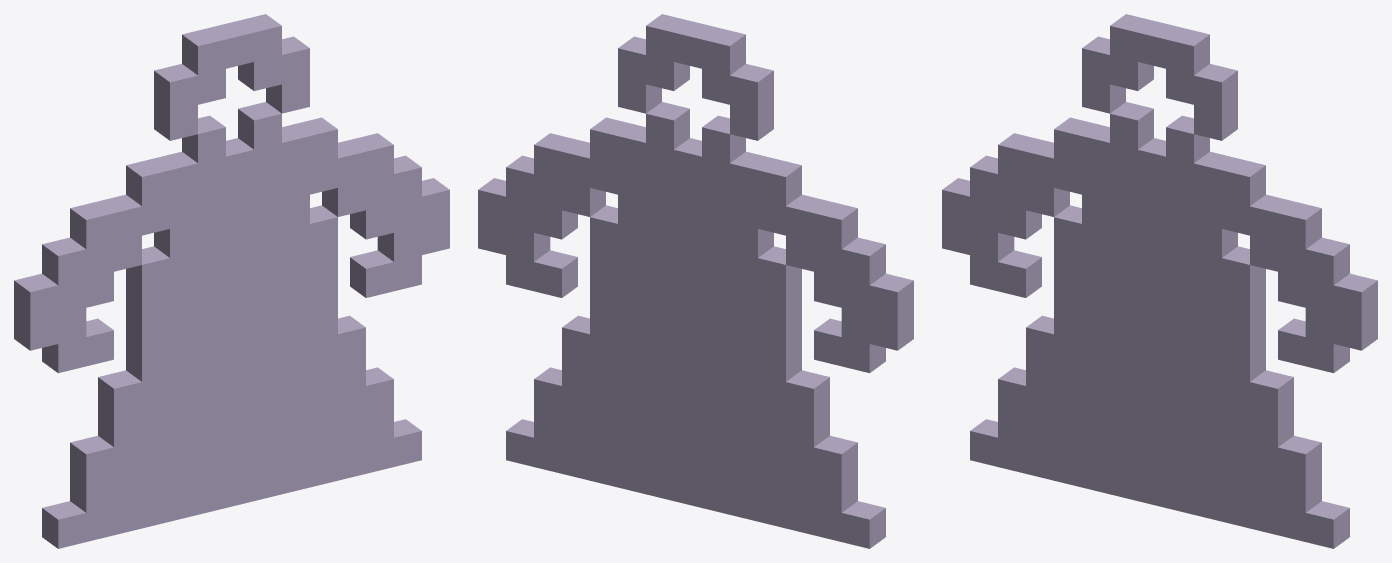
The model's file is Ghoul-Grey.vox.obj.
The picture shows the model from 3 angles, left to right: view 1: azimuth 30°, elevation 25°; view 2: azimuth 150°, elevation 25°; view 3: azimuth 330°, elevation 25°; orthographic projection.
Bounding box in the file's own units: 1.5 × 1.6 × 0.1.
Materials: 1 (1 with a texture image).
